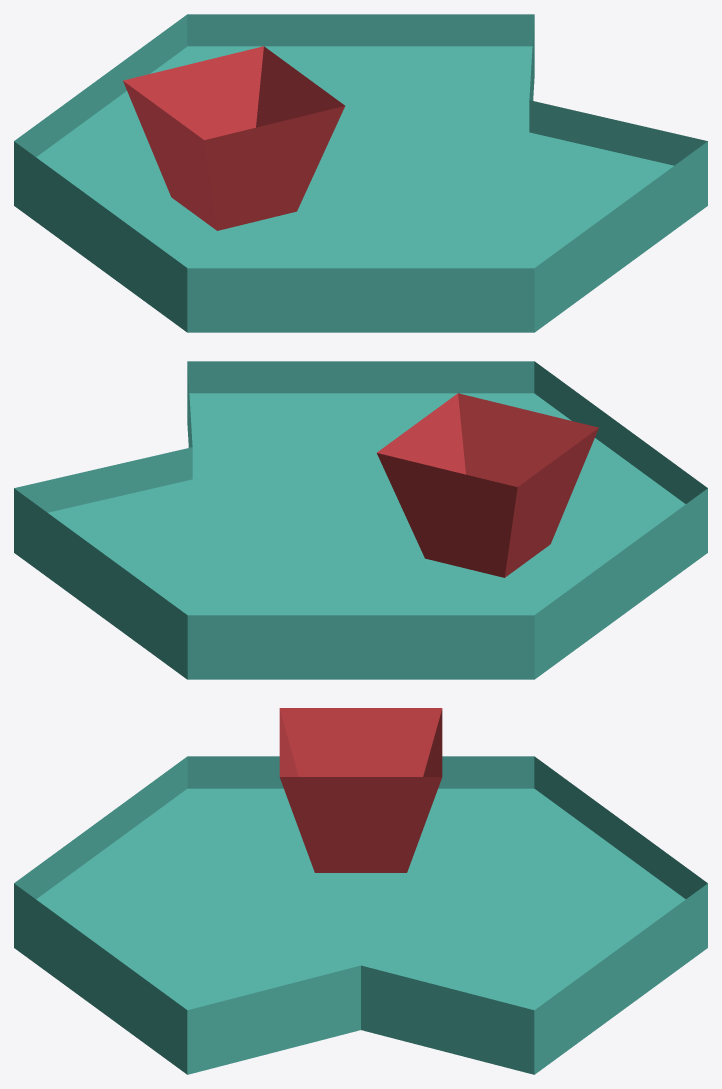
File: lily_large.fbx
3 renders of one model, top to bottom at view 1: azimuth 30°, elevation 25°; view 2: azimuth 150°, elevation 25°; view 3: azimuth 270°, elevation 25°, orthographic.
Visible parts, largest first — view 1: lily_large; view 2: lily_large; view 3: lily_large.
Boxes of the visible parts, box(x1,y1,x2,y2) form: lily_large: box(14, 14, 707, 332); lily_large: box(14, 361, 707, 679); lily_large: box(14, 708, 707, 1074).
Bounding box in the file's own units: 2.78 × 0.733 × 3.21.
